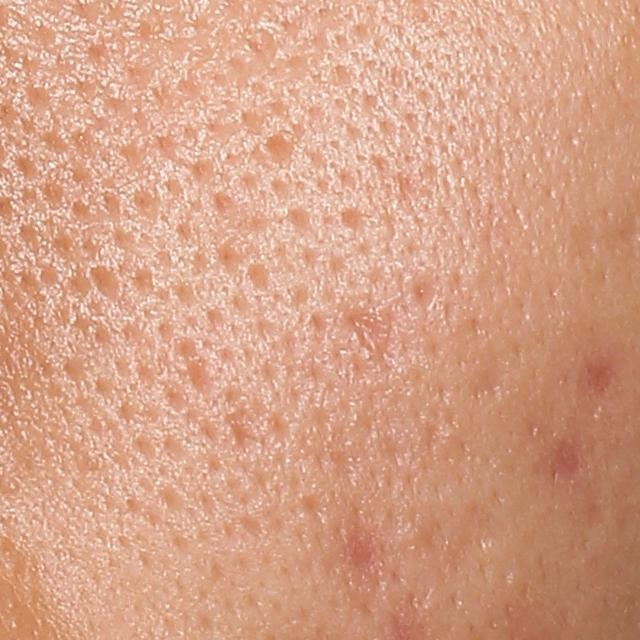atrophic_scar: (343, 523, 392, 588), (229, 25, 278, 86), (218, 383, 258, 452), (346, 309, 396, 361), (546, 429, 592, 485), (167, 339, 209, 398), (252, 132, 291, 171), (90, 265, 120, 302)
